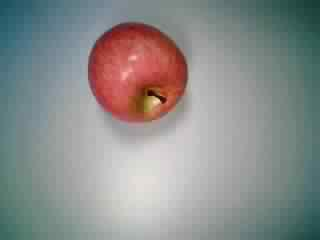apple: (82, 21, 187, 123)
